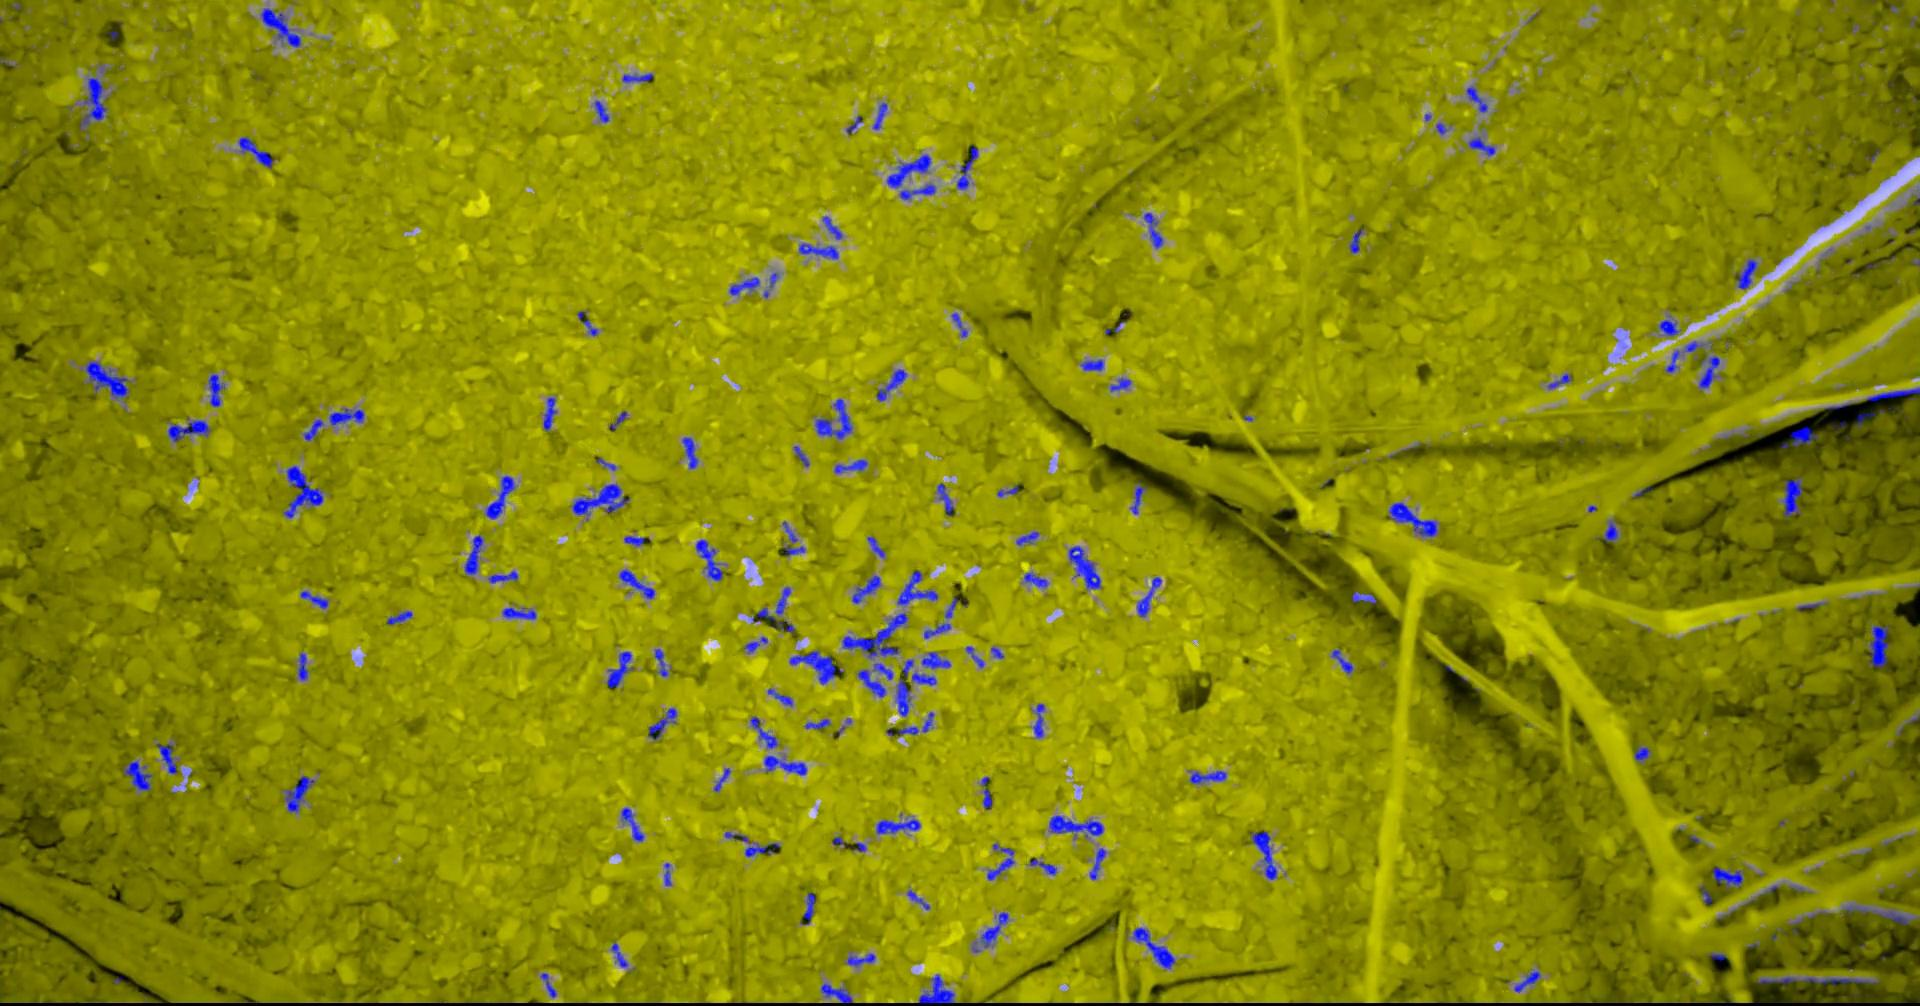ant: (841, 612, 907, 657), (895, 659, 936, 716), (886, 154, 935, 199), (571, 483, 629, 520), (283, 465, 323, 517), (1388, 502, 1437, 537), (1131, 927, 1175, 968), (789, 650, 841, 683), (814, 398, 852, 439), (85, 361, 128, 398), (260, 8, 300, 47), (1068, 545, 1100, 589), (897, 570, 937, 605), (79, 77, 105, 130), (1048, 815, 1103, 840), (1843, 904, 1911, 923), (1250, 831, 1276, 879), (485, 475, 514, 518), (975, 911, 1008, 948), (695, 539, 723, 580), (750, 607, 794, 633), (1756, 976, 1879, 984), (237, 136, 273, 166), (918, 974, 954, 1005), (284, 775, 314, 812), (985, 843, 1015, 880), (618, 569, 654, 598), (168, 417, 210, 441), (1867, 624, 1890, 667), (606, 652, 632, 688), (1137, 575, 1161, 616), (122, 760, 152, 790), (648, 708, 676, 741), (876, 370, 905, 400), (897, 711, 933, 735), (749, 716, 777, 748), (956, 146, 977, 189), (763, 754, 806, 775), (1780, 426, 1817, 447), (851, 575, 879, 603), (463, 533, 483, 574), (1865, 387, 1919, 401), (857, 669, 885, 696), (621, 807, 643, 841), (1783, 476, 1801, 517), (1698, 354, 1719, 387), (1736, 258, 1757, 290), (1710, 866, 1742, 888), (820, 983, 852, 1005), (1143, 212, 1162, 248), (875, 818, 919, 833), (156, 742, 177, 774), (797, 243, 838, 258), (1512, 970, 1540, 992), (729, 276, 759, 295), (329, 408, 363, 424), (1465, 86, 1487, 112), (207, 373, 223, 406), (300, 589, 328, 608), (1331, 649, 1352, 673), (577, 310, 597, 335), (1468, 136, 1495, 155), (937, 481, 952, 514), (905, 889, 930, 909), (1130, 481, 1145, 513), (1090, 847, 1105, 879), (800, 892, 815, 923), (921, 652, 950, 668), (833, 459, 867, 473), (744, 842, 778, 856), (1189, 770, 1225, 782), (822, 216, 842, 239), (682, 437, 697, 467), (1029, 857, 1057, 874), (767, 688, 792, 706), (712, 767, 730, 791), (872, 102, 888, 130), (775, 586, 790, 614), (543, 398, 556, 431), (540, 972, 556, 997), (1658, 315, 1679, 335), (846, 953, 875, 967), (923, 622, 950, 638), (951, 312, 968, 337), (743, 636, 767, 653), (611, 942, 627, 967), (1032, 702, 1044, 737), (303, 419, 323, 439), (866, 536, 884, 558), (502, 607, 535, 619), (488, 570, 517, 583), (1023, 572, 1048, 587), (965, 647, 983, 667), (1351, 589, 1377, 603), (386, 610, 411, 624), (654, 648, 667, 676), (608, 410, 626, 429), (1349, 227, 1363, 251), (1547, 373, 1571, 387), (792, 446, 809, 466), (982, 776, 992, 809), (1854, 412, 1876, 427), (782, 521, 797, 542), (872, 663, 891, 680), (622, 72, 653, 83), (804, 718, 830, 729), (594, 100, 608, 122), (1665, 351, 1679, 372), (1109, 377, 1130, 391), (1603, 520, 1617, 541), (1016, 531, 1037, 545), (943, 597, 957, 619), (846, 116, 862, 133), (724, 831, 748, 842), (297, 653, 307, 680), (996, 484, 1018, 495), (1079, 359, 1103, 370), (782, 545, 804, 555), (1634, 746, 1650, 760), (623, 535, 644, 545), (1684, 340, 1702, 351), (1700, 885, 1710, 903), (663, 862, 670, 885)
